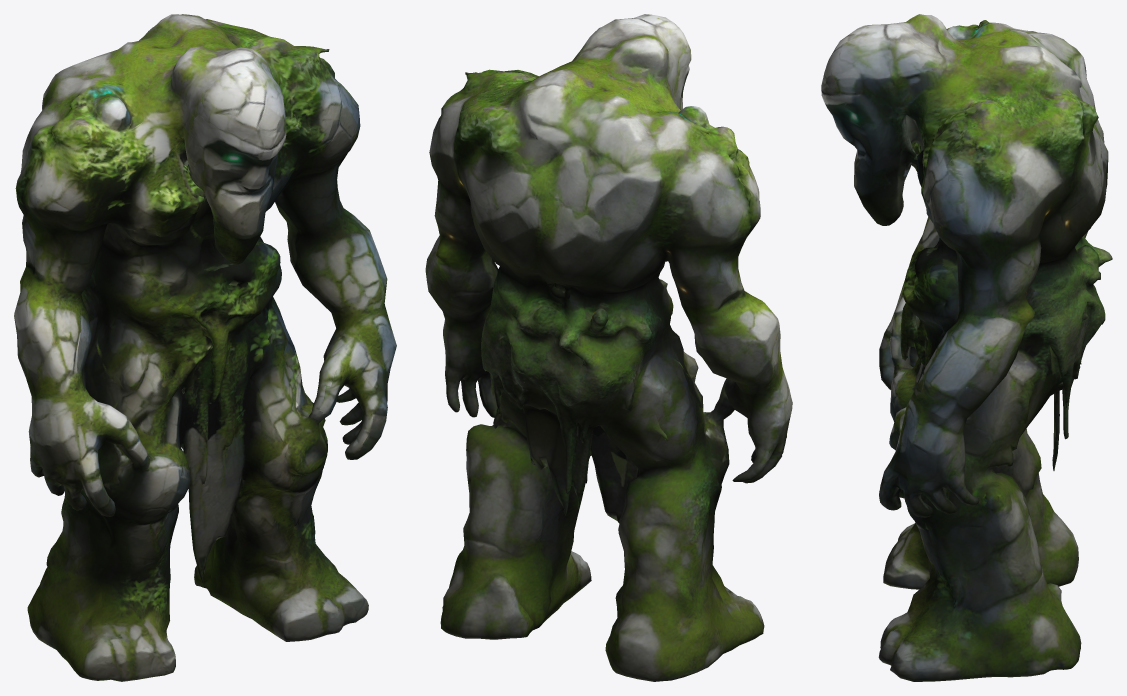
The model's file is tree_golem.glb.
3 views of the same model, side by side, from view 1: azimuth 30°, elevation 25°; view 2: azimuth 150°, elevation 25°; view 3: azimuth 270°, elevation 25° (orthographic). The views are drawn at different scales.
Parts seen in each view (by area): view 1: Mesh1_Mesh1.087; view 2: Mesh1_Mesh1.087; view 3: Mesh1_Mesh1.087.
Part boxes in pixels (bbox=[...]): Mesh1_Mesh1.087: bbox=[14, 14, 396, 681]; Mesh1_Mesh1.087: bbox=[425, 14, 792, 681]; Mesh1_Mesh1.087: bbox=[821, 14, 1112, 681].
Bounding box in the file's own units: 1.23 × 1.98 × 0.8885.
Materials: 1 (1 with a texture image).
